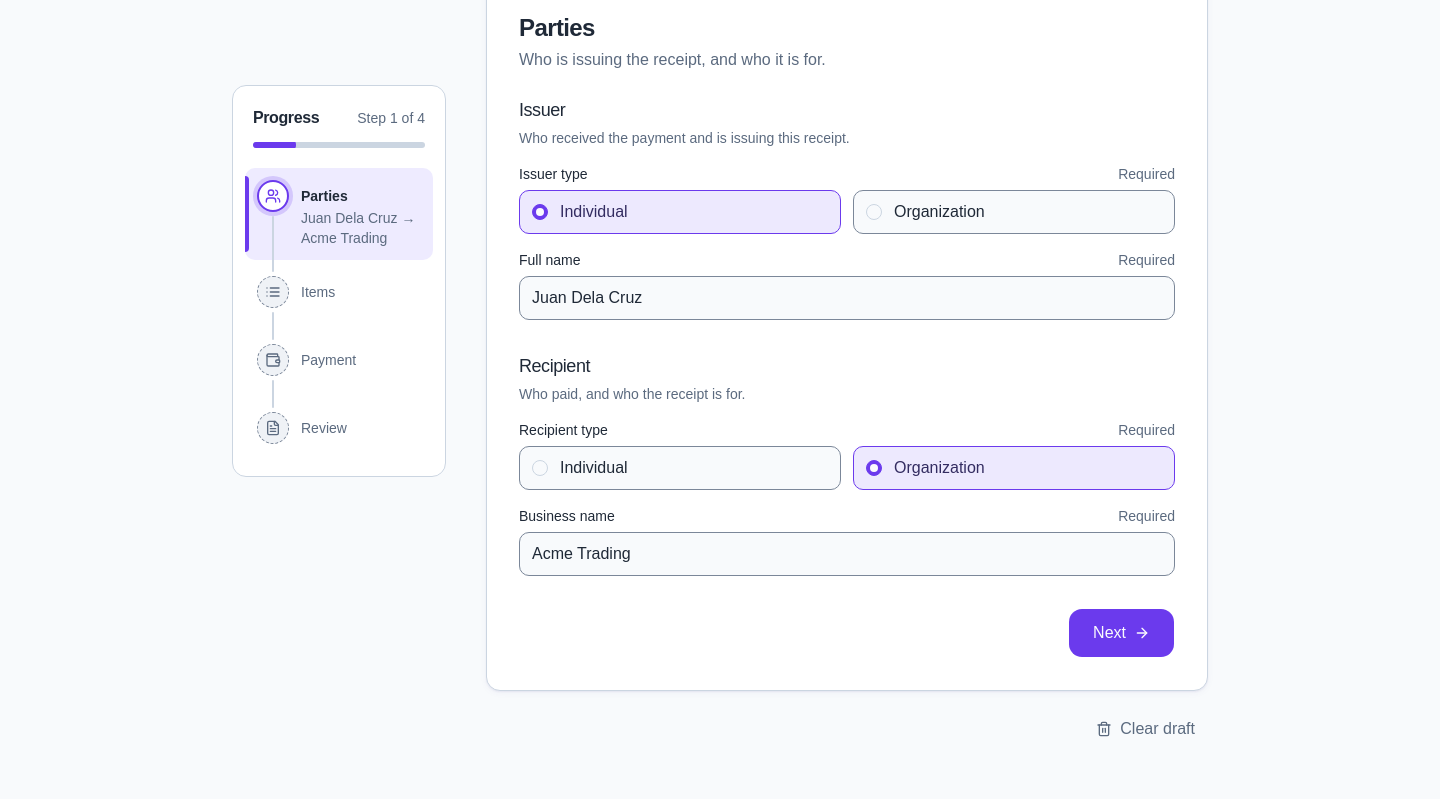
Scenario: when errors appear › starts a revisited step quiet
The width and height of the screenshot is (1440, 799).
(page scrolled)
Click the button "Next" at (1122, 633), box [1068,608,1175,658]
(page scrolled)
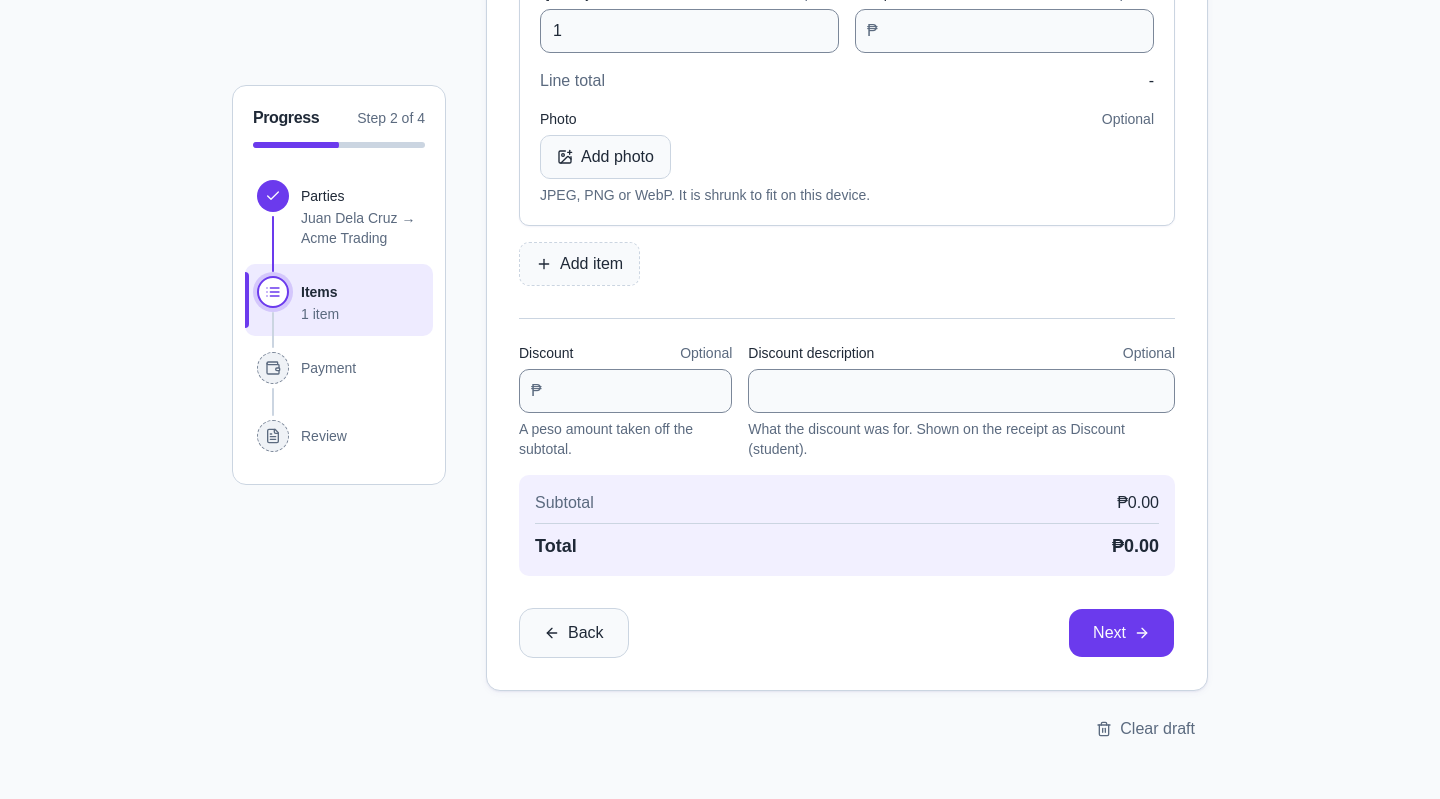
Click the button "Next" at (1122, 633), box [1068,608,1175,658]
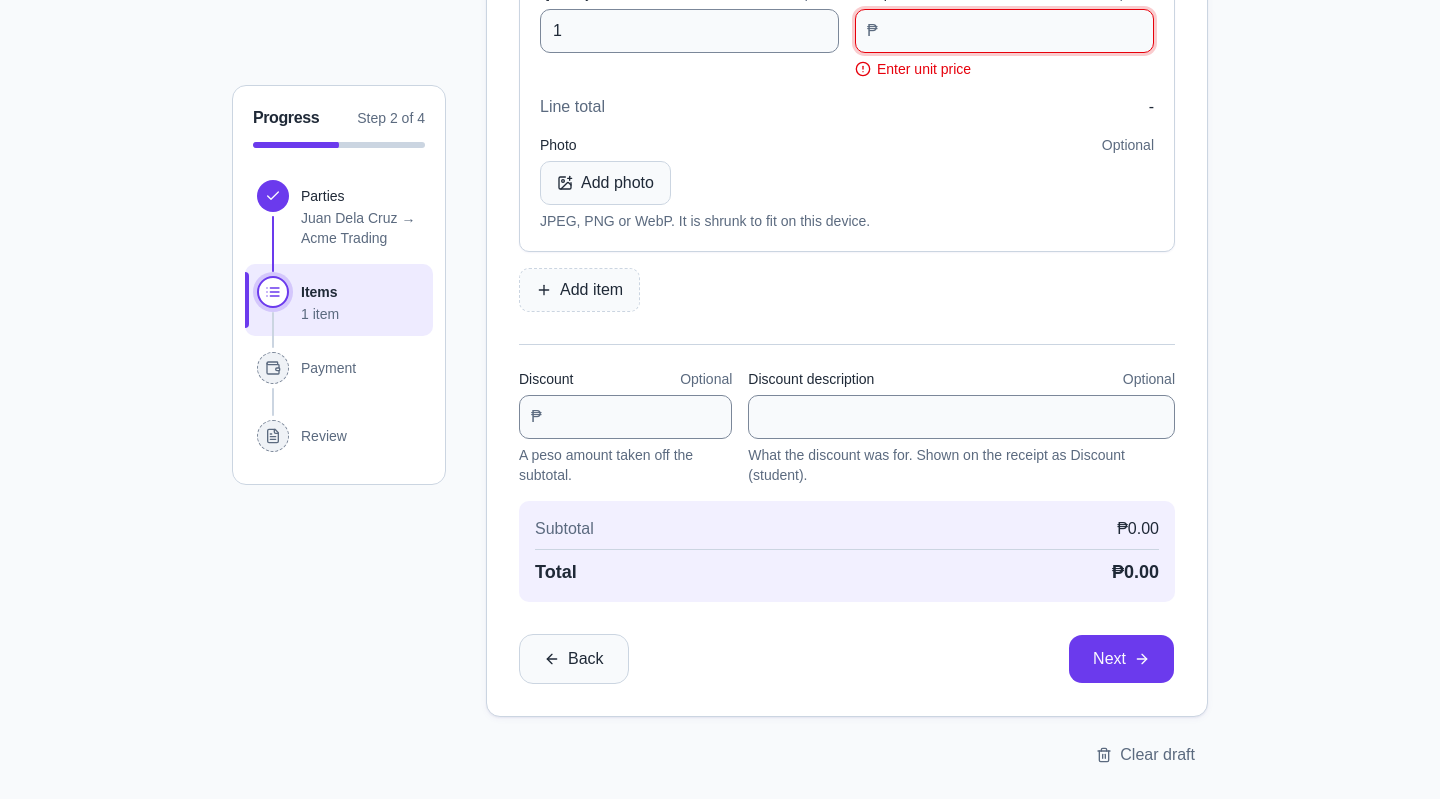
Click the button "Parties Juan Dela Cruz → Acme Trading" at (339, 214), box [245,168,433,260]
(page scrolled)
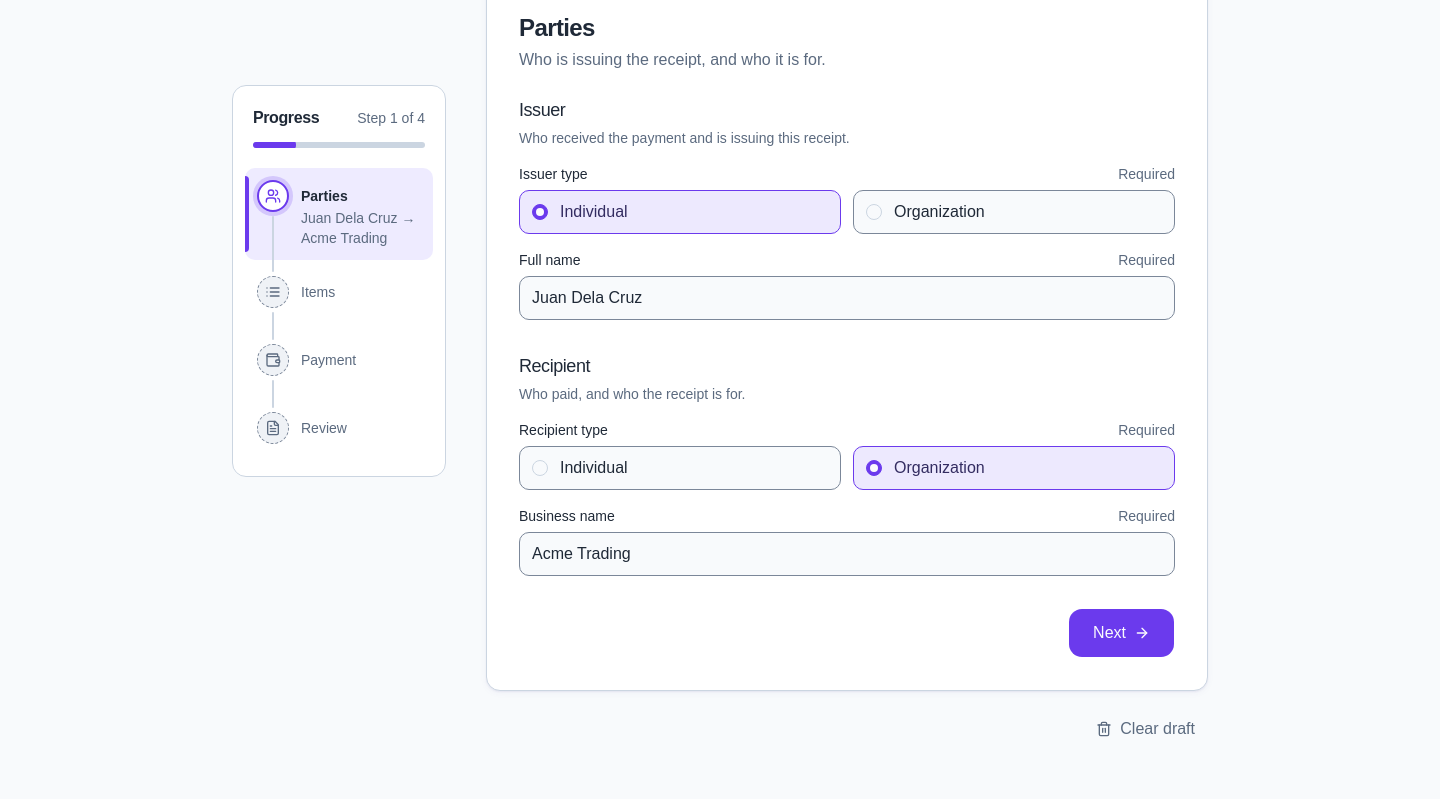
Click the button "Next" at (1122, 633), box [1068,608,1175,658]
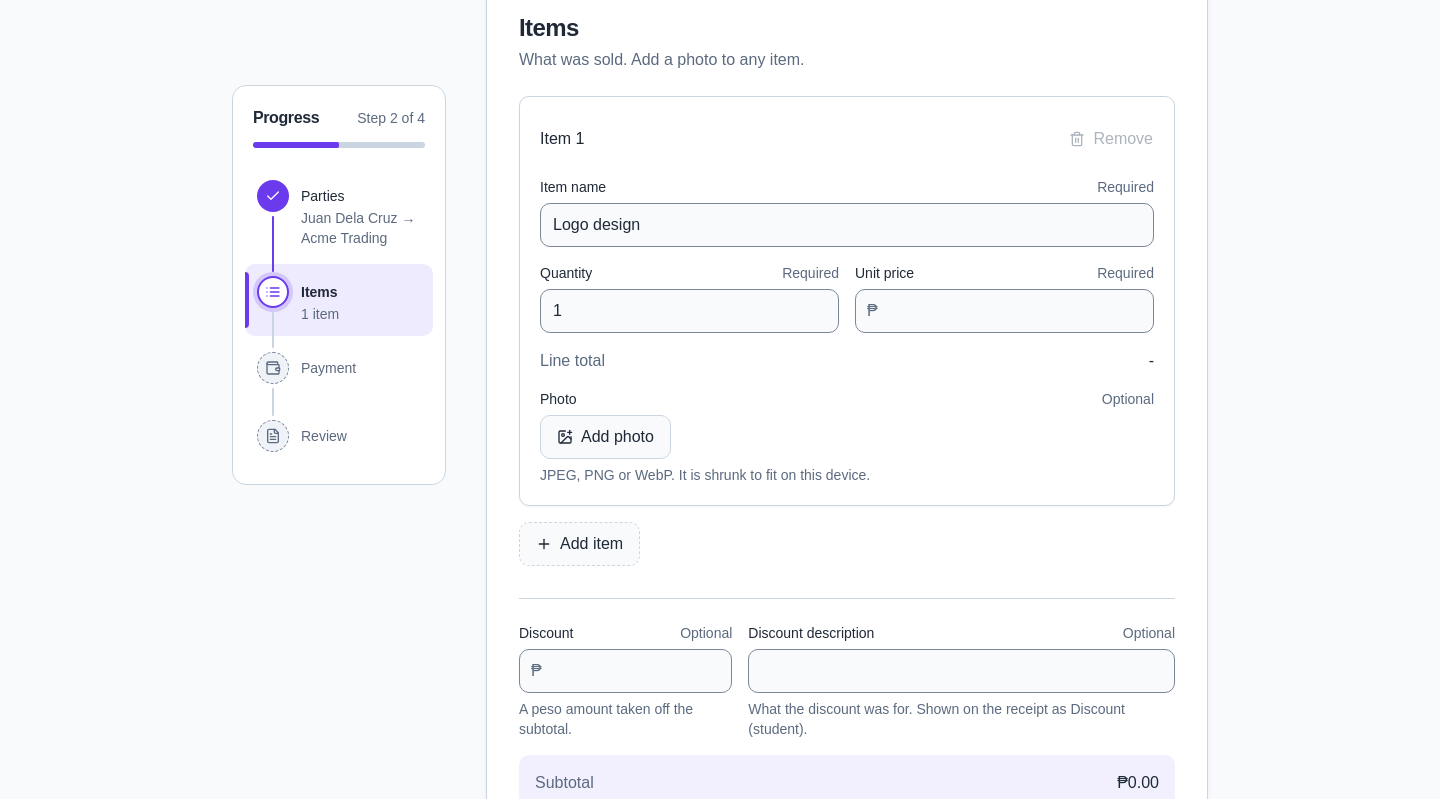
expect the heading "Items" is shown: met, box [519,14,579,41]
